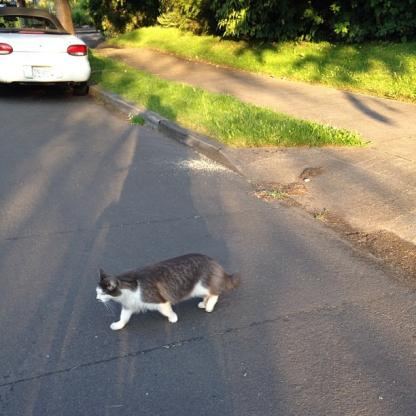Target: (93, 247, 244, 334)
